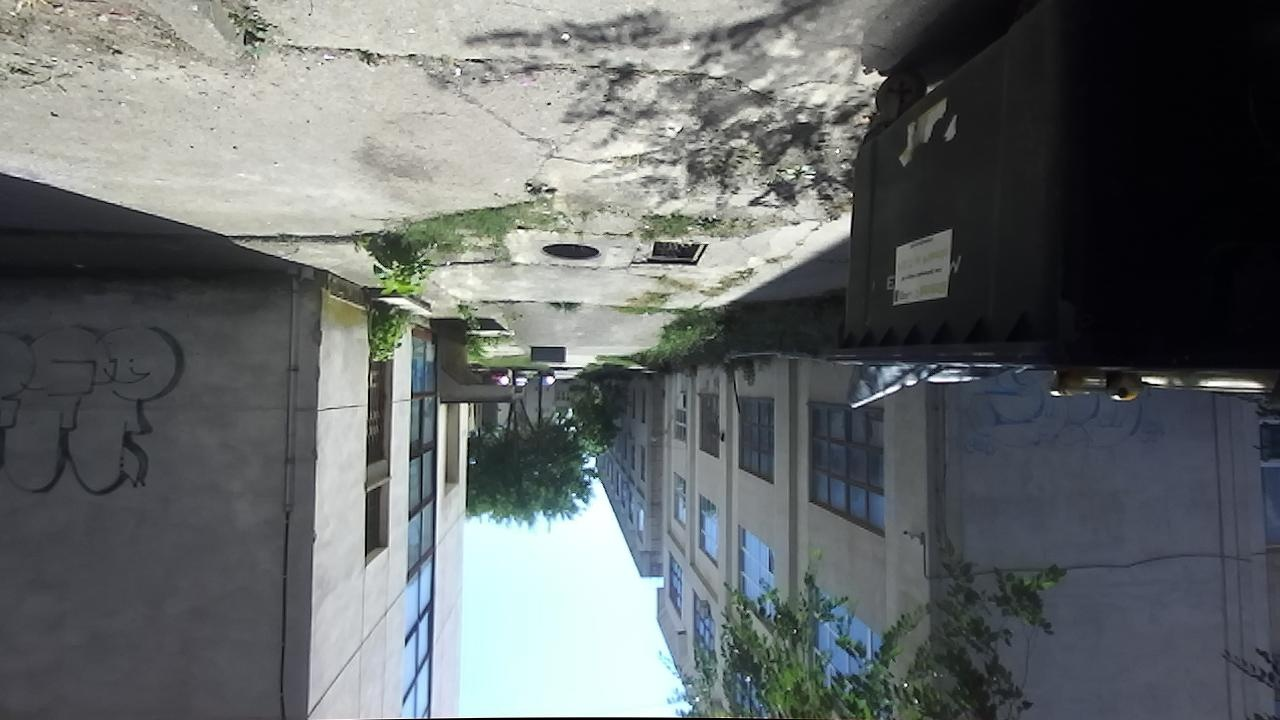drain: (645, 235, 714, 268), (538, 239, 607, 264)
